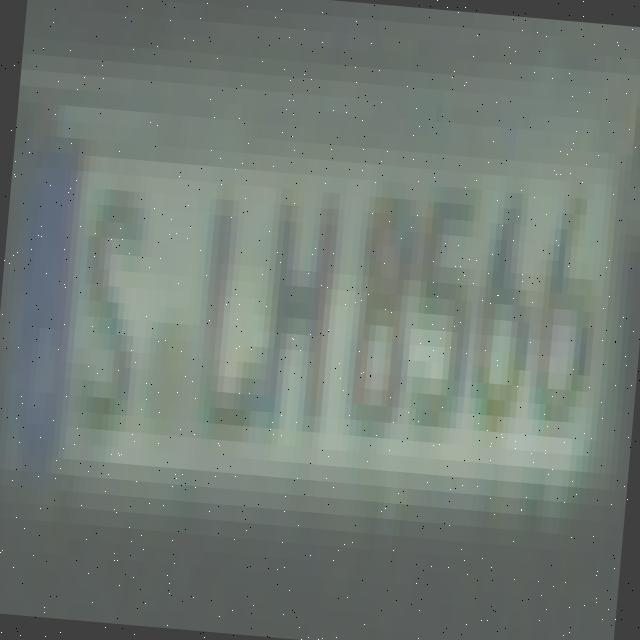Autre: (0, 137, 623, 486)
